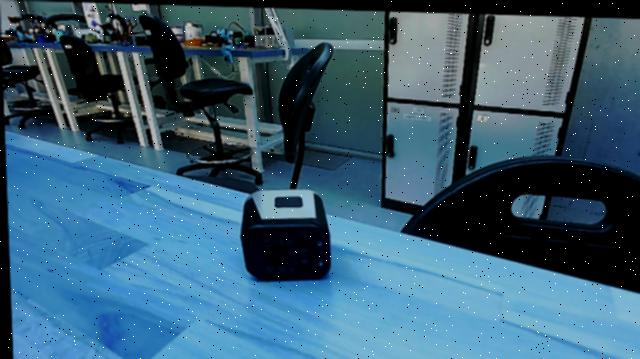adapter: (227, 182, 335, 289)
